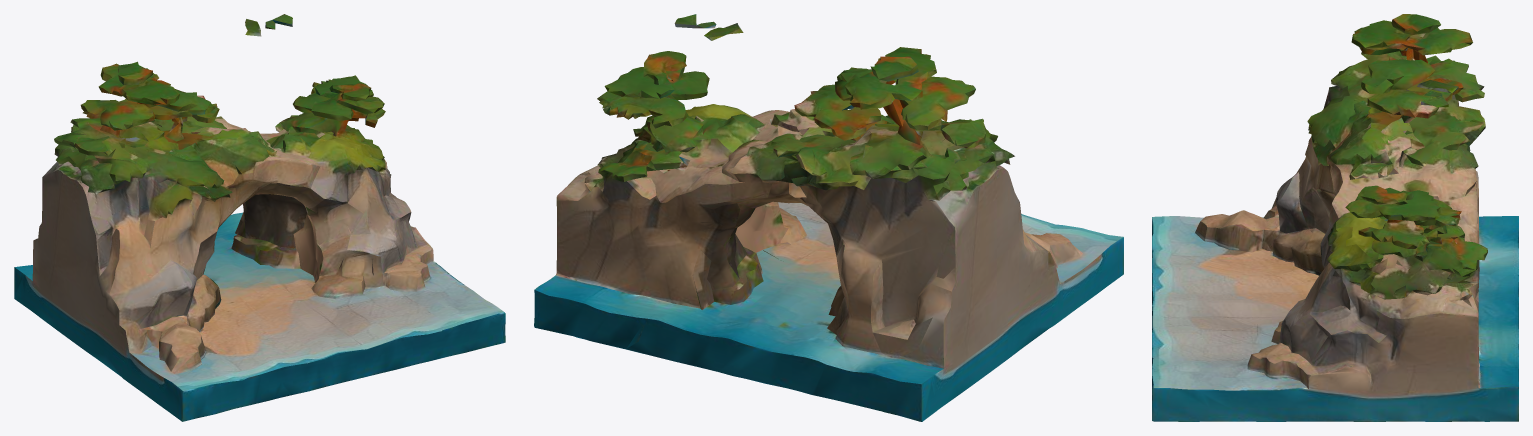
Rendered from engetsu-island.glb.
3 views of the same model, side by side, from view 1: azimuth 30°, elevation 25°; view 2: azimuth 150°, elevation 25°; view 3: azimuth 270°, elevation 25° (orthographic). The views are drawn at different scales.
Parts seen in each view (by area): view 1: logan-textured.obj; view 2: logan-textured.obj; view 3: logan-textured.obj.
Part boxes in pixels (box(x1,y1,x2,y2)): logan-textured.obj: box(14, 14, 505, 421); logan-textured.obj: box(534, 14, 1123, 421); logan-textured.obj: box(1152, 14, 1518, 421).
Bounding box in the file's own units: 1 × 0.7419 × 0.9034.
1 material, 1 textured.
